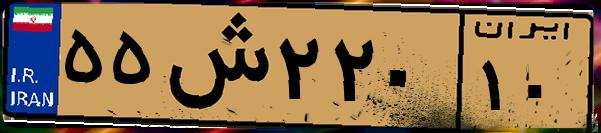0: (385, 28, 445, 110), (525, 38, 570, 115)
1: (475, 38, 525, 113)
2: (270, 28, 330, 110), (330, 28, 385, 110)
5: (57, 26, 110, 100), (110, 28, 158, 98)
ش: (158, 12, 270, 120)
